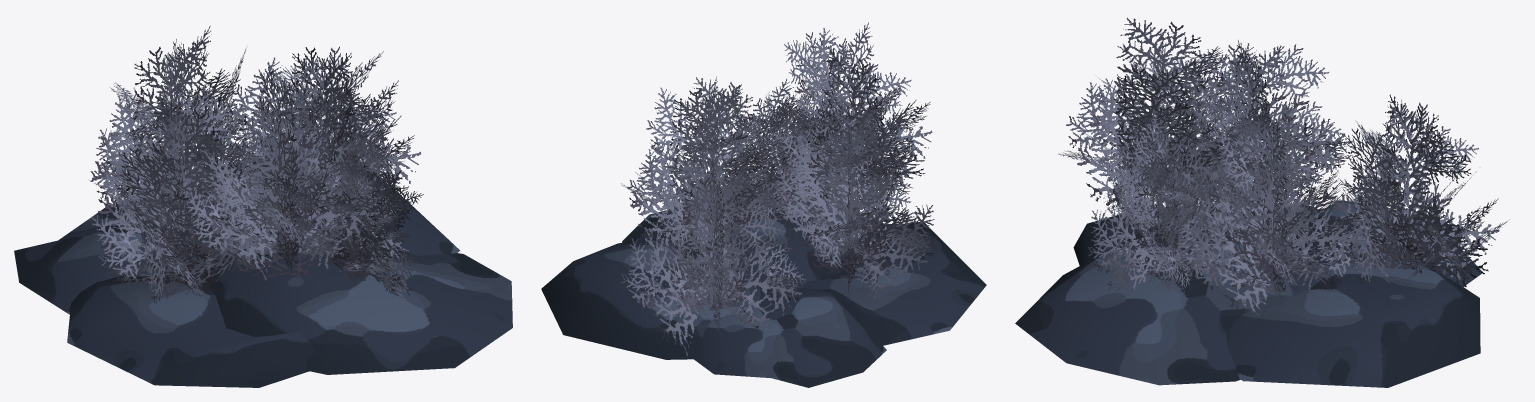
Rendered from Gorgonian Coral 4_preview_3DS_simplified.glb.
3 renders of one model, left to right at view 1: azimuth 30°, elevation 25°; view 2: azimuth 150°, elevation 25°; view 3: azimuth 270°, elevation 25°, orthographic. The views are drawn at different scales.
Visible parts, largest first — view 1: Marine Park Empire model; view 2: Marine Park Empire model; view 3: Marine Park Empire model.
Part boxes in pixels (x1,y1,x2,y2): Marine Park Empire model: [14, 26, 512, 387]; Marine Park Empire model: [541, 22, 986, 387]; Marine Park Empire model: [1015, 17, 1509, 387].
Size of the model in its own units: 127 by 85.27 by 144.
Materials: 2 (2 with a texture image).
